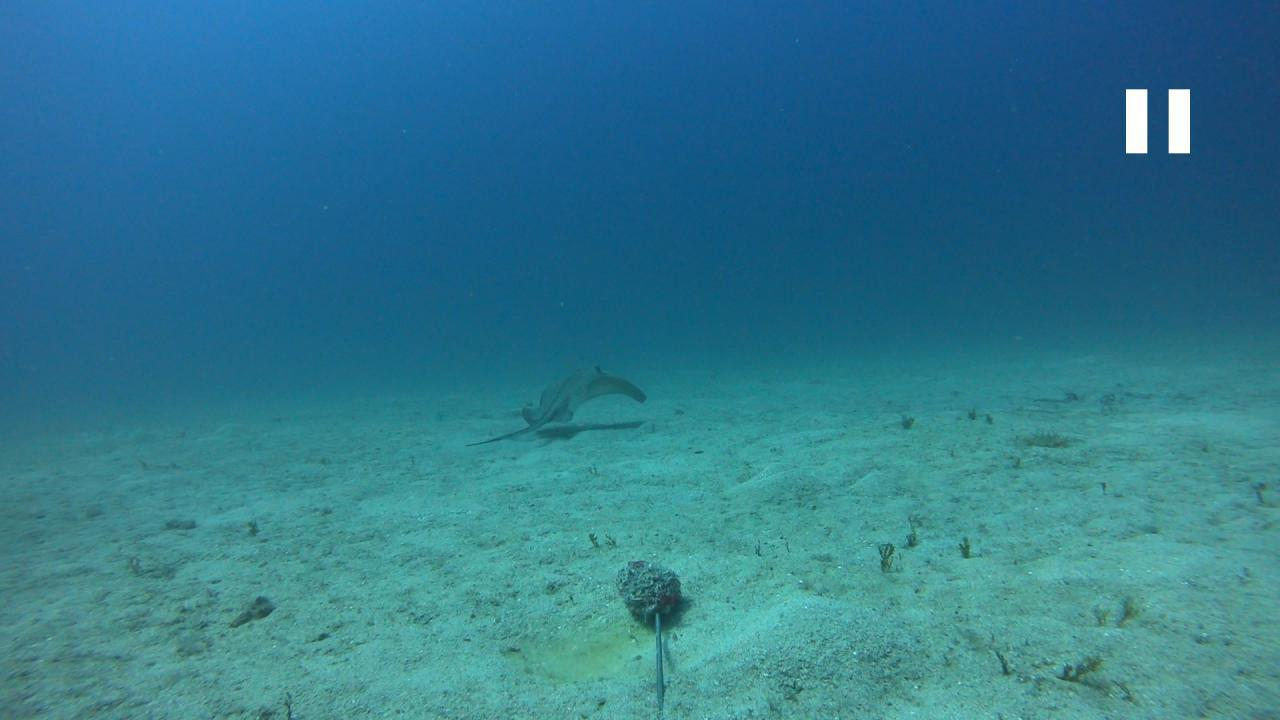dasyatis: (461, 364, 645, 447)
